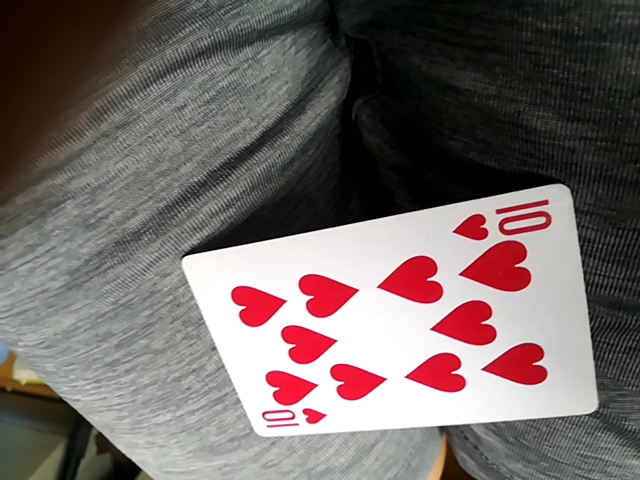hx 10: (178, 180, 605, 437)
